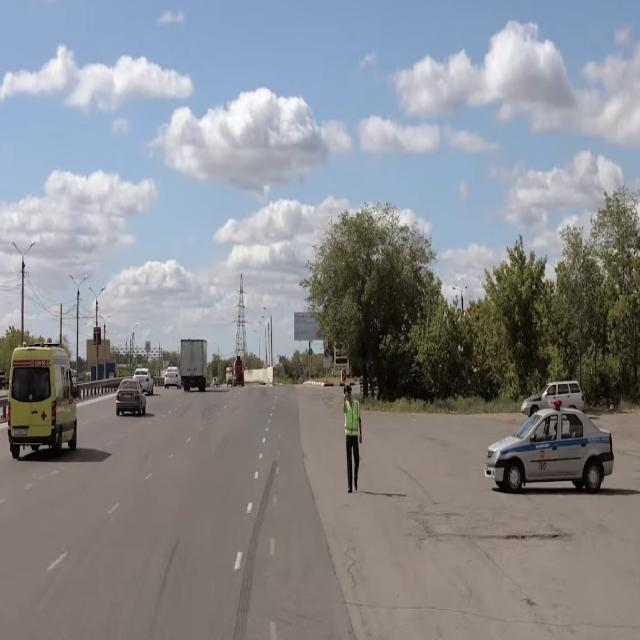intensive care unit: (7, 340, 81, 463)
non emergency car: (523, 380, 586, 416), (182, 338, 208, 393), (116, 378, 147, 417), (135, 368, 155, 397), (164, 366, 182, 392)
police car: (484, 398, 615, 493)
